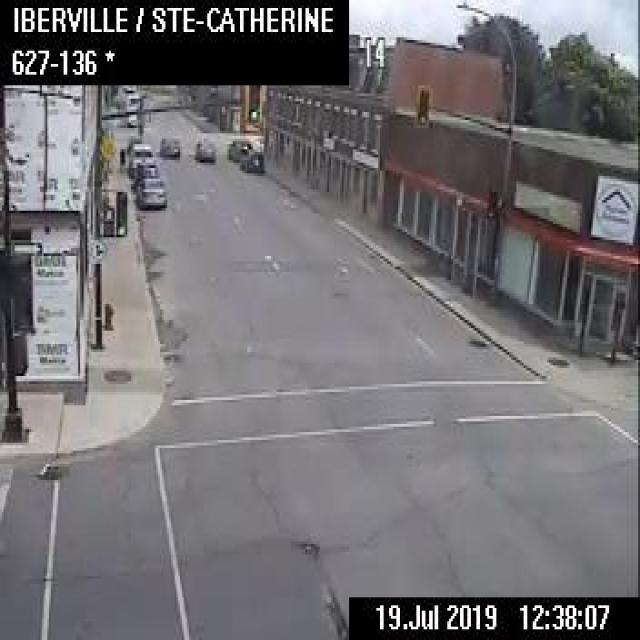pedestrian: (117, 144, 124, 169)
vehicle: (134, 174, 165, 208), (127, 140, 152, 175), (131, 156, 157, 182), (225, 135, 251, 160), (238, 146, 264, 171), (193, 134, 214, 160), (158, 135, 178, 156), (122, 92, 142, 110), (124, 106, 138, 125)
